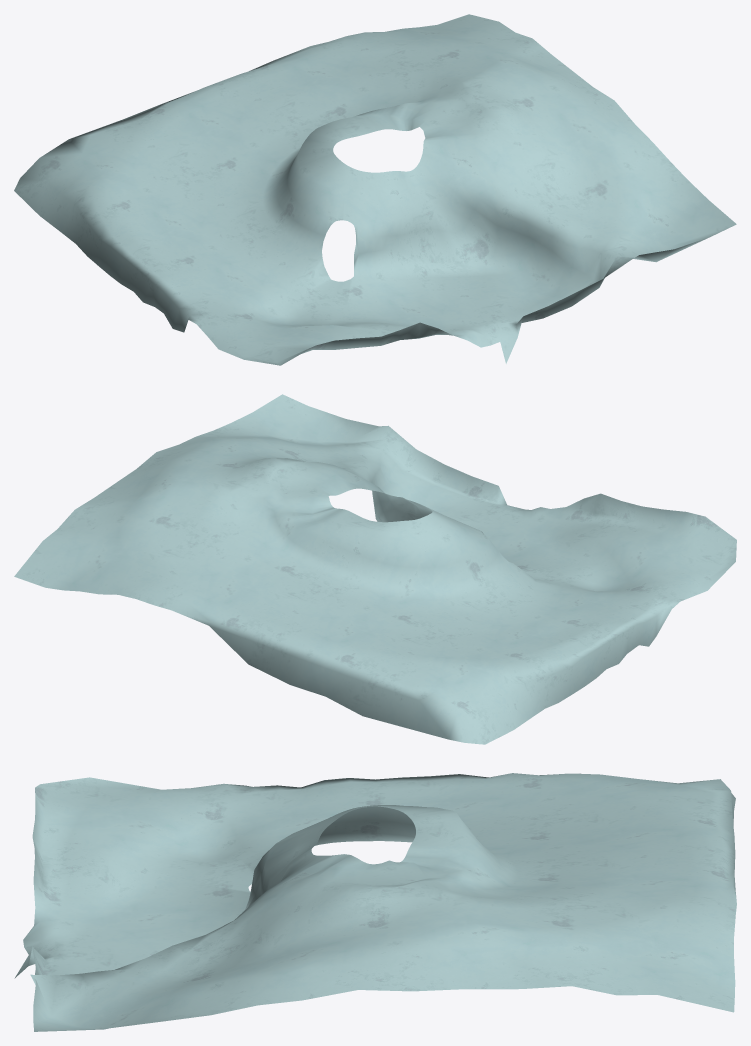
Rendered from field_winter_ice_mountain_after.fbx.
The picture shows the model from 3 angles, top to bottom: view 1: azimuth 30°, elevation 25°; view 2: azimuth 150°, elevation 25°; view 3: azimuth 270°, elevation 25°; orthographic projection. The views are drawn at different scales.
Parts seen in each view (by area): view 1: field_winter_ice_mountain_after; view 2: field_winter_ice_mountain_after; view 3: field_winter_ice_mountain_after.
Boxes of the visible parts, x1=… form: field_winter_ice_mountain_after: x1=14, y1=14, x2=736, y2=365; field_winter_ice_mountain_after: x1=14, y1=394, x2=736, y2=744; field_winter_ice_mountain_after: x1=14, y1=773, x2=736, y2=1031.
Bounding box in the file's own units: 6167 × 1598 × 6232.
Materials: 1 (1 with a texture image).
